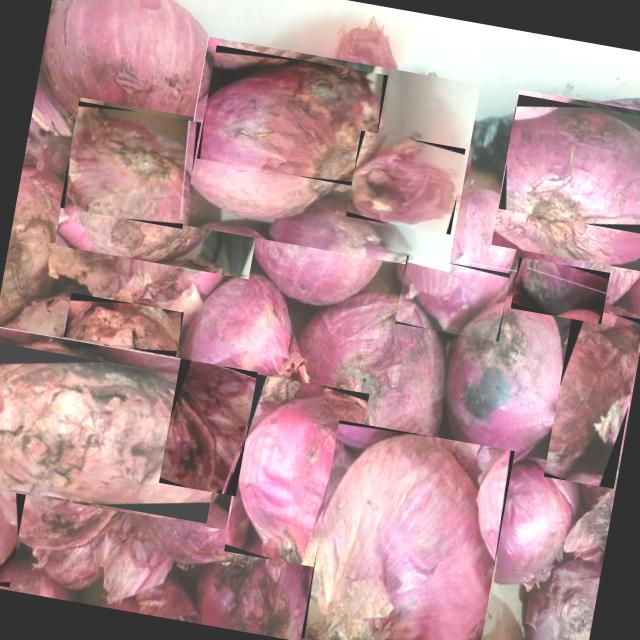rotten: (300, 419, 514, 640), (0, 341, 230, 523), (224, 374, 368, 571), (196, 44, 388, 188), (498, 94, 640, 236), (60, 100, 200, 228), (543, 306, 640, 488), (158, 358, 257, 496), (346, 130, 464, 234), (395, 255, 510, 341), (63, 293, 183, 357), (510, 256, 610, 324), (0, 484, 25, 589)
